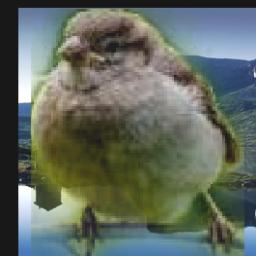Sparrow: (30, 9, 243, 256)
